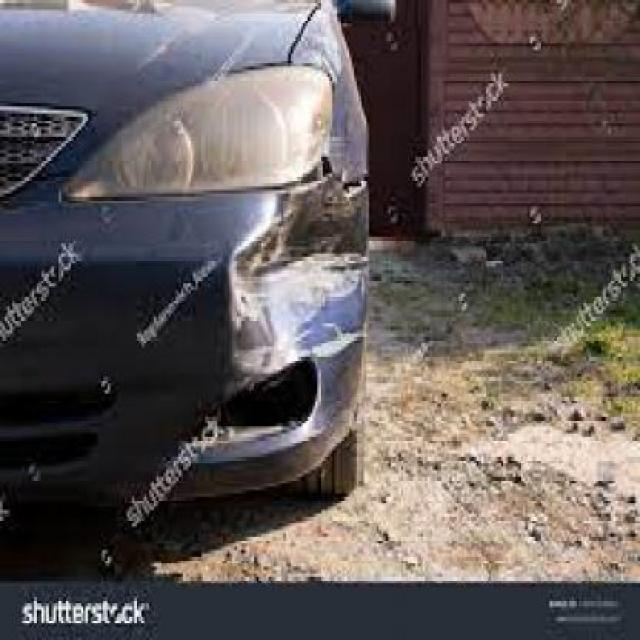damaged-front-bumper: (1, 192, 368, 483)
